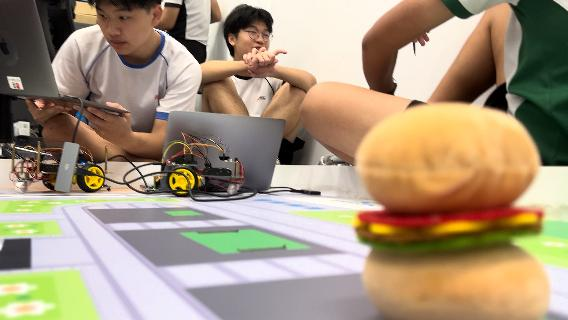burger: (354, 102, 556, 318)
